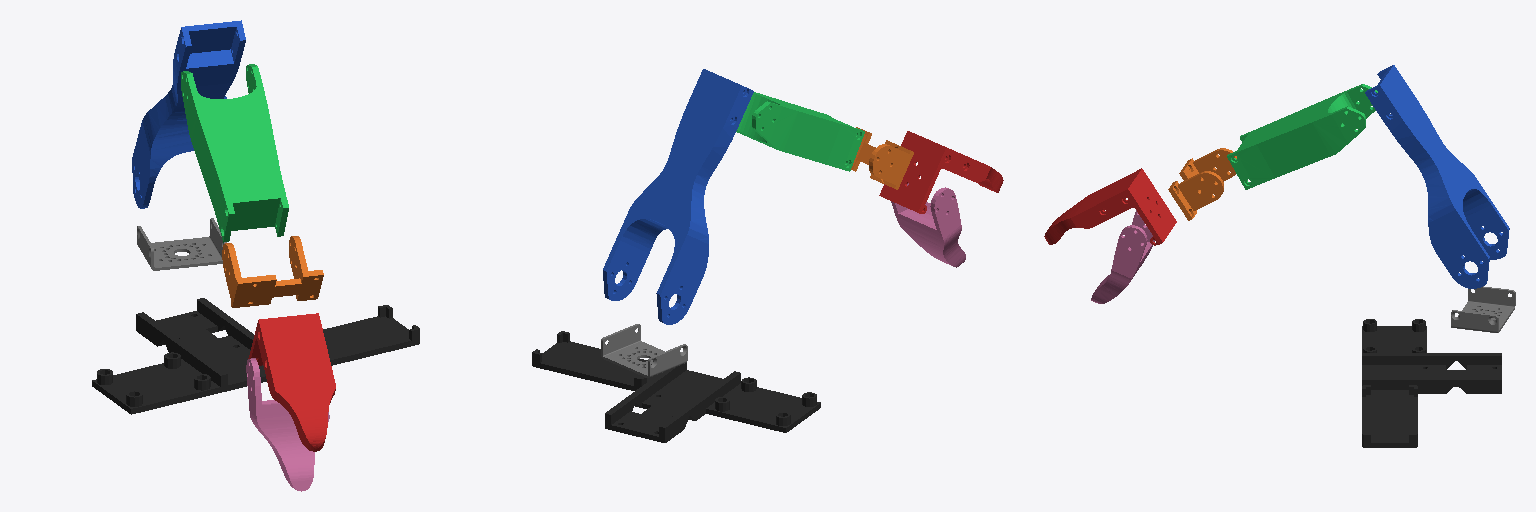
robot.urdf — koch_v11_writing_arm:
<?xml version="1.0"?>
<!-- Koch v1.1 Hybrid Writing Arm - 6-DOF -->
<!-- Based on working 4-DOF pattern, extended to 6 joints -->
<robot name="koch_v11_writing_arm">


  <!-- Base Link -->
  <link name="base_link">
    <visual name="Follower_Base_binary_visual">
      <origin xyz="-0.067000 -0.101000 0.000000" rpy="0.000000 0.000000 0.000000"/>
      <geometry>
	      <!-- <cylinder radius="0.05" length="0.02"/> -->
	      <mesh filename="package://robot_arm_description/meshes/Follower_Base_binary.stl"  scale="0.001 0.001 0.001"/>
      </geometry>
      <material name="black">
        <color rgba="0.2 0.2 0.2 1"/>
      </material>
    </visual>
    <!-- Add XL430 body mesh here too, positioned at motor location -->
    <visual name="XL-430_id1_visual">
      <origin xyz="0.000000 0.017000 0.021000" rpy="0.000000 0.000000 0.000000"/>
      <geometry>
	<mesh filename="package://robot_arm_description/meshes/XL-430_new.stl" scale="0.001 0.001 0.001"/>
      </geometry>
   </visual>
   <collision name="XL-430_id1_collision">
      <geometry>
	 <cylinder radius="0.05" length="0.02" />
      </geometry>
   </collision>
   <inertial>
      <origin xyz="0.002157 0.002598 0.014585" rpy="0 0 0"/>
      <mass value="0.089861"/>
      <inertia ixx="0.000069611" ixy="0.000000000" ixz="0.000000000"
		           iyy="0.000068626" iyz="0.000000000"
		           izz="0.000103037"/>
    </inertial>
  </link>

  <!-- Joint 1: Shoulder Pan (Base Rotation) - XL430 -->
  <joint name="shoulder_pan" type="revolute">
    <parent link="base_link"/>
    <child link="shoulder_link"/>
    <origin xyz="0.001000 0.017000 0.042000" rpy="0.000000 0.000000 0.000000"/>
    <axis xyz="0.000000 0.000000 1.000000"/>
    <limit lower="2.044" upper="0.540" effort="2.0" velocity="3.14"/>
  </joint>

  <link name="shoulder_link">
    <visual name="fr12_s102_visual">
      <origin xyz="0.000000 0.000000 0.017000" rpy="3.141593 0.000000 1.570796"/>
      <geometry>
	      <!-- <cylinder radius="0.025" length="0.04"/> -->
	  <mesh filename="package://robot_arm_description/meshes/fr12_s102.stl" scale="0.001 0.001 0.001"/>
      </geometry>
      <material name="grey">
        <color rgba="0.5 0.5 0.5 1"/>
      </material>
    </visual>
    <!-- Add XL430 body mesh #2 -->
    <visual name="XL-430_new_visual">
      <origin xyz="0.000000 0.000000 0.038000" rpy="1.570796 0.000000 0.000000"/>
      <geometry>
	<mesh filename="package://robot_arm_description/meshes/XL-430_new.stl" scale="0.001 0.001 0.001"/>
      </geometry>
   </visual>
   <inertial>
     <origin xyz="-0.000000 0.000000 0.037821" rpy="0 0 0"/>
     <mass value="0.061576"/>
     <inertia ixx="0.000013539" ixy="0.000000000" ixz="0.000000000"
	                  iyy="0.000013856" iyz="0.000000000"
	                  izz="0.000006444"/>
   </inertial>
   <collision name="fr12_s102_collision">
      <origin xyz="-0.000000 0.000000 0.030750" rpy="0.000000 0.000000 0.000000" />
      <geometry>
        <box size="0.047000 0.038000 0.021500" />
      </geometry>
   </collision>
   <collision name="XL-430_new_collision">
      <origin xyz="0.000000 0.000000 0.038000" rpy="0.000000 0.000000 0.000000" />
      <geometry>
         <cylinder radius="0.019000" length="0.046000" />
      </geometry>
   </collision>
  </link>

  <!-- Joint 2: Shoulder Lift (Vertical) - XL430 -->
  <joint name="shoulder_lift" type="revolute">
    <parent link="shoulder_link"/>
    <child link="upper_arm_link"/>
    <origin xyz="-0.001000 0.000000 0.038000" rpy="3.14159  1.570796 0.000000"/>
    <axis xyz="0.000000 -1.000000 0.000000"/>
    <limit lower="2.8857" upper="2.2000" effort="2.0" velocity="3.14"/>
  </joint>

  <link name="upper_arm_link">
    <visual name="Follower_Shoulder_To_Elbow_binary_visual">
       <origin xyz="-0.012000 0.022000 0.117000" rpy="3.141593 -0.000000 -1.570796"/>
      <geometry>
	<!-- <cylinder radius="0.015" length="0.20"/> -->
	<mesh filename="package://robot_arm_description/meshes/Follower_Shoulder_To_Elbow_binary.stl"  scale="0.001 0.001 0.001"/>
      </geometry>
      <material name="blue">
        <color rgba="0.2 0.4 0.8 1"/>
      </material>
    </visual>
    <visual name="XL330-ID-3_visual">
      <origin xyz="0.109000 0.008000 -0.014000" rpy="-1.570796 0.000000 0.000000"/>
      <geometry>
	<mesh filename="package://robot_arm_description/meshes/XL,XC-330.stl" scale="0.001 0.001 0.001"/>
      </geometry>
   </visual>
   <inertial>
      <origin xyz="0.050128 -0.023836 0.130136" rpy="0 0 0"/>
      <mass value="0.071602"/>
      <inertia ixx="0.001104557" ixy="0.000000000" ixz="0.000000000"
		             iyy="0.001192723" iyz="0.000000000"
		             izz="0.000265545"/>
   </inertial>
   <collision name="Follower_Shoulder_To_Elbow_binary_collision">
      <origin xyz="0.010050 -0.044044 0.233604" rpy="0.000000 0.000000 0.000000" />
      <geometry>
         <box size="0.054000 0.141912 0.036000" />
      </geometry>
    </collision>
    <collision name="XL330-ID-3_collision">
      <origin xyz="0.109000 0.008000 -0.014000" rpy="0.000000 0.000000 0.000000" />
      <geometry>
         <cylinder radius="0.017000" length="0.028000" />
      </geometry>
    </collision>
  </link>

  <!-- Joint 3: Elbow Flex - XL330 -->
  <joint name="elbow_flex" type="revolute">
    <parent link="upper_arm_link"/>
    <child link="forearm_link"/>
    <origin xyz="0.109000 0.000000 -0.013000" rpy="3.14159 0.000000 0.000000"/>
    <axis xyz="0.000000 -1.000000 0.000000"/>
    <limit lower="0.726" upper="2.250" effort="1.5" velocity="3.14"/>
  </joint>

  <link name="forearm_link">
    <visual name="XL330-ID4_visual">
      <origin xyz="0.101000 -0.008000 0.002000" rpy="1.570796 1.570796 0.000000"/>
      <geometry>
	<mesh filename="package://robot_arm_description/meshes/XL,XC-330.stl" scale="0.001 0.001 0.001"/>
      </geometry>
      <material name="green">
        <color rgba="0.2 0.8 0.4 1"/>
      </material>
    </visual>
    <visual name="Follower_Elbow_To_Wrist_Extension_binary_visual">
      <origin xyz="0.082000 -0.018000 -0.009000" rpy="0.000000 0.000000 1.570796"/>
      <geometry>
        <mesh filename="package://robot_arm_description/meshes/Follower_Elbow_To_Wrist_Extension_binary.stl" scale="0.001 0.001 0.001"/>
      </geometry>
      <material name="green">
        <color rgba="0.2 0.8 0.4 1"/>
      </material>
    </visual>
    <inertial>
      <origin xyz="0.100026 0.011432 0.002300" rpy="0 0 0"/>
      <mass value="0.088473"/>
      <inertia ixx="0.000044543" ixy="0.000000000" ixz="0.000000000"
		             iyy="0.000011283" iyz="0.000000000"
		             izz="0.000046876"/>
    </inertial>
    <collision name="XL330-ID4_collision">
      <origin xyz="0.101000 -0.008000 0.002000" rpy="0.000000 0.000000 0.000000" />
      <geometry>
        <cylinder radius="0.017000" length="0.028000" />
      </geometry>
    </collision>
    <collision name="Follower_Elbow_To_Wrist_Extension_binary_collision">
      <origin xyz="0.099550 0.027043 0.002550" rpy="0.000000 0.000000 0.000000" />
      <geometry>
         <box size="0.045000 0.100086 0.033000" />
      </geometry>
    </collision>
  </link>

  <!-- Joint 4: Wrist Flex - XL330 -->
  <joint name="wrist_flex" type="revolute">
    <parent link="forearm_link"/>
    <child link="wrist_link"/>
    <origin xyz="0.101000 -0.001000 0.003000" rpy="0.000000 0.000000 0.000000"/>
    <axis xyz="0.000000 1.000000 0.000000"/>
    <limit lower="2.70" upper="0.297" effort="1.5" velocity="3.14"/>
  </joint>

  <link name="wrist_link">
    <visual name="Follower_Elbow_To_Wrist_binary_visual">
      <origin xyz="0.222000 0.019000 0.064000" rpy="-3.141593 0.000000 -1.570796"/>
      <geometry>
	<mesh filename="package://robot_arm_description/meshes/Follower_Elbow_To_Wrist_binary.stl" scale="0.001 0.001 0.001"/>
      </geometry>
      <material name="orange">
        <color rgba="0.9 0.5 0.2 1"/>
      </material>
    </visual>
    <visual name="XL330-ID5_visual">
      <origin xyz="0.000000 0.003000 0.038000" rpy="0.000000 0.000000 0.000000"/>
      <geometry>
        <mesh filename="package://robot_arm_description/meshes/XL,XC-330.stl" scale="0.001 0.001 0.001"/>
      </geometry>
      <material name="orange">
        <color rgba="0.9 0.5 0.2 1"/>
      </material>
    </visual>
    <inertial>
      <origin xyz="0.039162 0.041751 0.050877" rpy="0 0 0"/>
      <mass value="0.034634"/>
      <inertia ixx="0.000300750" ixy="0.000000000" ixz="0.000000000"
		             iyy="0.000307520" iyz="0.000000000"
		             izz="0.000544612"/>
    </inertial>
    <collision name="Follower_Elbow_To_Wrist_binary_collision">
      <origin xyz="0.243000 0.241223 0.122867" rpy="0.000000 1.570800 0.000000" />
      <geometry>
        <cylinder radius="0.017487" length="0.052000" />
      </geometry>
    </collision>
    <collision name="XL330-ID5_collision">
      <origin xyz="0.000000 0.003000 0.038000" rpy="0.000000 0.000000 0.000000" />
      <geometry>
        <cylinder radius="0.017000" length="0.028000" />
      </geometry>
    </collision>
  </link>

  <!-- Joint 5: Wrist Roll - XL330 -->
  <joint name="wrist_roll" type="revolute">
    <parent link="wrist_link"/>
    <child link="hand_link"/>
    <origin xyz="-0.001000 0.001000 0.043000" rpy="0.000000 0.000000 -1.570796"/>
    <axis xyz="0.000000 0.000000 1.000000"/>
    <limit lower="1.900" upper="-1.448" effort="1.0" velocity="3.14"/>
  </joint>

  <link name="hand_link">
    <visual name="Follower_Gripper_Static_Part_binary">
      <origin xyz="-0.221000 -0.017000 0.071000" rpy="1.570796 0.000000 0.000000"/>
      <geometry>
         <mesh filename="package://robot_arm_description/meshes/Follower_Gripper_Static_Part_binary.stl" scale="0.001 0.001 0.001"/>
      </geometry>
      <material name="red">
        <color rgba="0.8 0.2 0.2 1"/>
      </material>
    </visual>
    <visual name="XL330-ID6_visual">
      <origin xyz="0.008000 -0.007000 0.015000" rpy="-1.570796 -1.570796 -1.570796"/>
      <geometry>
        <mesh filename="package://robot_arm_description/meshes/XL,XC-330.stl" scale="0.001 0.001 0.001"/>
      </geometry>
      <material name="red">
        <color rgba="0.8 0.2 0.2 1"/>
      </material>
    </visual>

    <inertial>
      <origin xyz="0.005155 -0.026264 0.024550" rpy="0 0 0"/>
      <mass value="0.045639"/>
      <inertia ixx="0.000047474" ixy="0.000000000" ixz="0.000000000"
		             iyy="0.000013317" iyz="0.000000000"
		             izz="0.000039915"/>
    </inertial>
    <collision name="Follower_Gripper_Static_Part_binary">
      <origin xyz="0.000065 -0.051484 0.052125" rpy="1.570800 0.000000 0.000000" />
      <geometry>
        <cylinder radius="0.021813" length="0.078868" />
      </geometry>
    </collision>
    <collision name="XL330-ID6_collision">
      <origin xyz="0.008000 -0.007000 0.015000" rpy="0.000000 0.000000 0.000000" />
      <geometry>
         <cylinder radius="0.017000" length="0.028000" />
      </geometry>
    </collision>
  </link>

  <!-- Joint 6: Pen Holder (Gripper) - XL330 -->
  <joint name="gripper" type="revolute">
    <parent link="hand_link"/>
    <child link="gripper"/>
    <origin xyz="0.000000 -0.007000 0.016000" rpy="0.785398 0.000000 0.000000"/>
    <axis xyz="-1.000000 0.000000 0.000000"/>
    <limit lower="1.60" upper="0.19" effort="0.5" velocity="1.57"/>
  </joint>

  <link name="gripper">
    <visual name="Follower_Gripper_Moving_Part_binary_visual">
      <origin xyz="-0.221000 -0.045000 0.034000" rpy="0.000000 -0.785399 -1.570797"/>
      <geometry>
        <mesh filename="package://robot_arm_description/meshes/Follower_Gripper_Moving_Part_binary.stl" scale="0.001 0.001 0.001"/>
      </geometry>
    </visual>
    <inertial>
      <origin xyz="-0.251709 0.176376 0.042951" rpy="0 0 0"/>
      <mass value="0.015925"/>
      <inertia ixx="0.000001879" ixy="0.000000000" ixz="0.000000000"
		             iyy="0.000003038" iyz="0.000000000"
		             izz="0.000004269"/>
    </inertial>
    <collision name="Follower_Gripper_Moving_Part_binary_collision">
      <origin xyz="-0.253009 0.176065 0.044500" rpy="0.000000 0.000000 0.000000" />
      <geometry>
        <box size="0.073917 0.045500 0.031000" />
      </geometry>
     </collision>
  </link>


  <!-- ROS2 Control - Following working 4-DOF pattern -->
  <!-- ros2_control for Dynamixel Hardware -->
  <ros2_control name="koch_v11_system" type="system">
	    
    <!-- Dynamixel Hardware Interface -->
    <hardware>
        <plugin>dynamixel_hardware_interface/DynamixelHardware</plugin>
	<param name="usb_port">/dev/ttyOpenRB</param>
	<param name="port_name">/dev/ttyOpenRB</param>
	<param name="baud_rate">1000000</param>
        <param name="number_of_joints">6</param>
	<param name="number_of_transmissions">6</param> 
	<param name="transmission_to_joint_matrix">1,0,0,0,0,0,0,1,0,0,0,0,0,0,1,0,0,0,0,0,0,1,0,0,0,0,0,0,1,0,0,0,0,0,0,1</param>
	<param name="joint_to_transmission_matrix">1,0,0,0,0,0,0,1,0,0,0,0,0,0,1,0,0,0,0,0,0,1,0,0,0,0,0,0,1,0,0,0,0,0,0,1</param>
	<!--
	Temp
        <param name="number_of_joints">5</param>
	<param name="number_of_transmissions">5</param> 
	<param name="transmission_to_joint_matrix">1,0,0,0,0,0,1,0,0,0,0,0,-1,0,0,0,0,0,1,0,0,0,0,0,1</param>
	<param name="joint_to_transmission_matrix">1,0,0,0,0,0,1,0,0,0,0,0,-1,0,0,0,0,0,1,0,0,0,0,0,1</param>
	-->
	<param name="dynamixel_model_folder">/param/dxl_model</param>
	<!-- <param name="disable_torque_at_init">true</param> -->
	<param name="protocol_version">2.0</param>
    </hardware>

  <!-- ===== JOINTS: ros2_control interfaces ===== -->
  
  <!-- Joint 1: shoulder_pan (base rotation) -->
  <joint name="shoulder_pan">
    <command_interface name="position">
      <param name="min">2.044</param>  <!-- far left -->
      <param name="max">0.540</param>  <!-- far right -->
    </command_interface>
    <state_interface name="position"/>
    <state_interface name="velocity"/>
    <state_interface name="effort"/>
  </joint>
  
  <!-- Joint 2: shoulder_lift -->
  <joint name="shoulder_lift">
    <command_interface name="position">
      <param name="min">2.8857</param>  <!-- highest physical position -->
      <param name="max">2.2000</param>   <!-- lowest physical position -->
    </command_interface>
    <state_interface name="position"/>
    <state_interface name="velocity"/>
    <state_interface name="effort"/>
  </joint>
  
  <!-- Joint 3: elbow_flex -->
  <joint name="elbow_flex">
    <command_interface name="position">
      <param name="min">0.726</param>   <!-- highest physical position -->
      <param name="max">2.250</param>  <!-- lowest physical position -->
    </command_interface>
    <state_interface name="position"/>
    <state_interface name="velocity"/>
    <state_interface name="effort"/>
  </joint>
  
  <!-- Joint 4: wrist_flex -->
  <joint name="wrist_flex">
    <command_interface name="position">
      <param name="min">2.70</param>  <!-- highest physical position -->
      <param name="max">0.297</param>  <!-- lowest physical position -->
    </command_interface>
    <state_interface name="position"/>
    <state_interface name="velocity"/>
    <state_interface name="effort"/>
  </joint>
  
  <!-- Joint 5: wrist_roll -->
  <joint name="wrist_roll">
    <command_interface name="position">
      <param name="min">1.900</param>  <!-- jacks on same side -->
      <param name="max">-1.475</param>   <!-- jacks on opposite side (180° rotation) -->
    </command_interface>
    <state_interface name="position"/>
    <state_interface name="velocity"/>
    <state_interface name="effort"/>
  </joint>
  
  <!-- Joint 6: gripper (gripper)  -->
  <joint name="gripper">
    <command_interface name="position">
      <param name="min">1.60</param>   <!-- completely closed  -->
      <param name="max">0.19</param>   <!-- completely open  -->
    </command_interface>
    <state_interface name="position"/>
    <state_interface name="velocity"/>
    <state_interface name="effort"/>
  </joint>
  
  <!-- ===== GPIO: Actual Dynamixel Motors ===== -->
  
  <!-- Motor 1: XL430-W250 (base) -->
  <gpio name="dxl1">
    <param name="type">dxl</param>
    <param name="ID">1</param>
    <command_interface name="Goal Position"/>
    <state_interface name="Present Position"/>
    <state_interface name="Present Velocity"/>
    <state_interface name="Present Load"/>
    <state_interface name="Present Temperature"/>
    <state_interface name="Present Input Voltage"/>
  </gpio>
  
  <!-- Motor 2: XL430-W250 (shoulder_lift) -->
  <gpio name="dxl2">
    <param name="type">dxl</param>
    <param name="ID">2</param>
    <command_interface name="Goal Position"/>
    <state_interface name="Present Position"/>
    <state_interface name="Present Velocity"/>
    <state_interface name="Present Load"/>
    <state_interface name="Present Temperature"/>
    <state_interface name="Present Input Voltage"/>
  </gpio>
  
  <!-- Motor 3: XL330-M288 (elbow_flex) -->
  <gpio name="dxl3">
    <param name="type">dxl</param>
    <param name="ID">3</param>
    <command_interface name="Goal Position"/>
    <state_interface name="Present Position"/>
    <state_interface name="Present Velocity"/>
    <state_interface name="Present Current"/>
    <state_interface name="Present Temperature"/>
    <state_interface name="Present Input Voltage"/>
  </gpio>
  
  <!-- Motor 4: XL330-M288 (wrist_flex) -->
  <gpio name="dxl4">
    <param name="type">dxl</param>
    <param name="ID">4</param>
    <command_interface name="Goal Position"/>
    <state_interface name="Present Position"/>
    <state_interface name="Present Velocity"/>
    <state_interface name="Present Current"/>
    <state_interface name="Present Temperature"/>
    <state_interface name="Present Input Voltage"/>
  </gpio>
  
  <!-- Motor 5: XL330-M288 (wrist_roll) -->
  <gpio name="dxl5">
    <param name="type">dxl</param>
    <param name="ID">5</param>
    <command_interface name="Goal Position"/>
    <state_interface name="Present Position"/>
    <state_interface name="Present Velocity"/>
    <state_interface name="Present Current"/>
    <state_interface name="Present Temperature"/>
    <state_interface name="Present Input Voltage"/>
  </gpio>
  
  <!-- Motor 6: XL330-M288 (gripper/gripper) -->
  <gpio name="dxl6">
    <param name="type">dxl</param>
    <param name="ID">6</param>
    <command_interface name="Goal Position"/>
    <state_interface name="Present Position"/>
    <state_interface name="Present Velocity"/>
    <state_interface name="Present Current"/>
    <state_interface name="Present Temperature"/>
    <state_interface name="Present Input Voltage"/>
  </gpio>
  
</ros2_control>
</robot>

--- Render facts (derived) ---
The picture shows the robot from 3 angles, left to right: view 1: azimuth 30°, elevation 25°; view 2: azimuth 150°, elevation 25°; view 3: azimuth 270°, elevation 25°; orthographic projection.
Model koch_v11_writing_arm with 7 links and 6 joints (6 revolute), rooted at base_link, posed joints at zero except 5 at the middle of their limits (shoulder_pan = 1.29, shoulder_lift = 2.54, elbow_flex = 1.49, wrist_flex = 1.5, gripper = 0.895).
Links seen in each view (by area): view 1: base_link, forearm_link, upper_arm_link, hand_link, gripper, wrist_link, shoulder_link; view 2: upper_arm_link, base_link, forearm_link, hand_link, gripper, shoulder_link, wrist_link; view 3: upper_arm_link, base_link, forearm_link, hand_link, wrist_link, gripper, shoulder_link.
Boxes of the visible links, left/top/right/bottom form: base_link: left=92, top=298, right=419, bottom=414; forearm_link: left=181, top=64, right=288, bottom=242; upper_arm_link: left=132, top=20, right=245, bottom=208; hand_link: left=248, top=313, right=335, bottom=451; gripper: left=246, top=358, right=329, bottom=491; wrist_link: left=222, top=236, right=323, bottom=307; shoulder_link: left=137, top=218, right=226, bottom=270; upper_arm_link: left=603, top=69, right=753, bottom=324; base_link: left=532, top=331, right=820, bottom=442; forearm_link: left=736, top=92, right=864, bottom=171; hand_link: left=879, top=131, right=1003, bottom=213; gripper: left=891, top=183, right=965, bottom=267; shoulder_link: left=601, top=324, right=687, bottom=377; wrist_link: left=851, top=127, right=913, bottom=189; upper_arm_link: left=1365, top=65, right=1509, bottom=288; base_link: left=1362, top=319, right=1501, bottom=447; forearm_link: left=1227, top=84, right=1377, bottom=189; hand_link: left=1044, top=168, right=1176, bottom=245; wrist_link: left=1168, top=148, right=1236, bottom=220; gripper: left=1091, top=210, right=1154, bottom=303; shoulder_link: left=1451, top=286, right=1515, bottom=332.
Size in the robot's own frame: 0.171 by 0.2706 by 0.1867 metres.
7 mesh visuals loaded from 9 distinct referenced files (7 binary STL); not drawn: 6 (reference not matched to a file when rendering).
